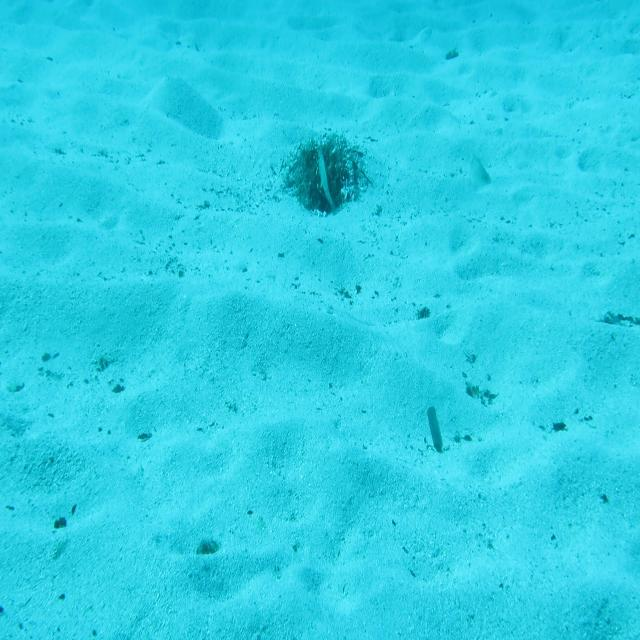FAN: (319, 155, 341, 217)
female: (466, 163, 498, 207)
nest: (280, 137, 368, 220)
vegetation: (426, 411, 445, 464), (589, 318, 638, 338), (197, 532, 224, 555), (444, 54, 460, 68)
